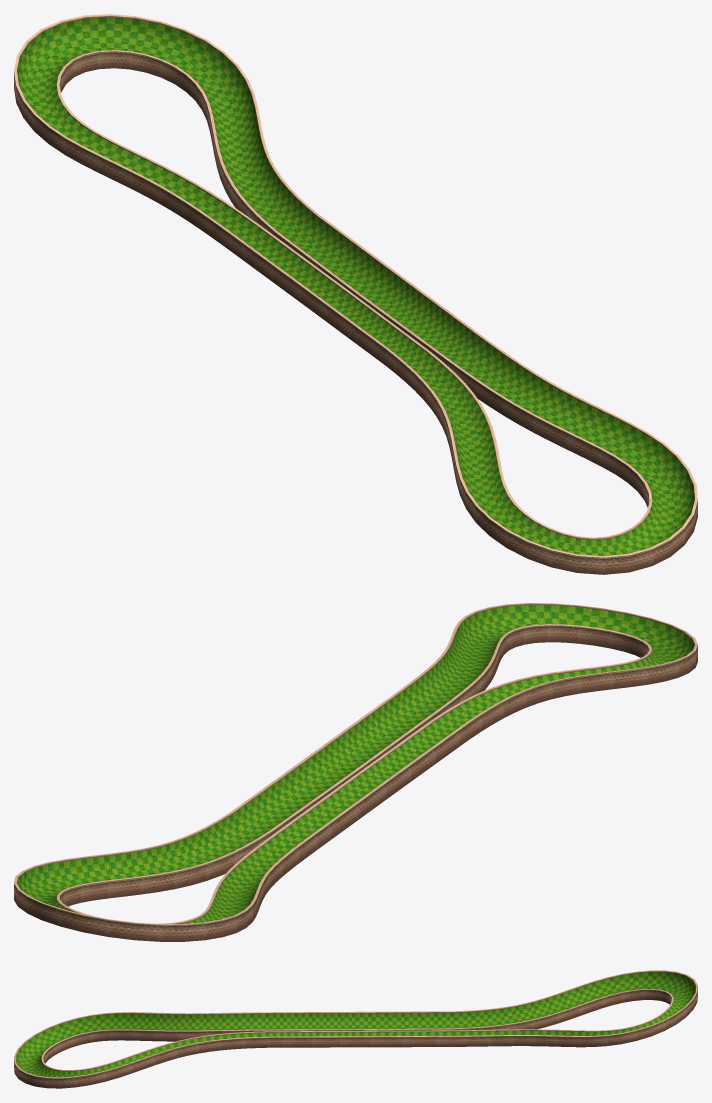
3 renders of one model, top to bottom at view 1: azimuth 30°, elevation 25°; view 2: azimuth 150°, elevation 25°; view 3: azimuth 270°, elevation 25°, orthographic. The views are drawn at different scales.
Parts seen in each view (by area): view 1: STAGE003; view 2: STAGE003; view 3: STAGE003.
Boxes of the visible parts, x1,y1,x2,y2 form: STAGE003: [14, 14, 697, 574]; STAGE003: [14, 603, 697, 941]; STAGE003: [14, 970, 697, 1088].
Bounding box in the file's own units: 16.27 × 10.36 × 78.54.
11 materials, 11 textured.
